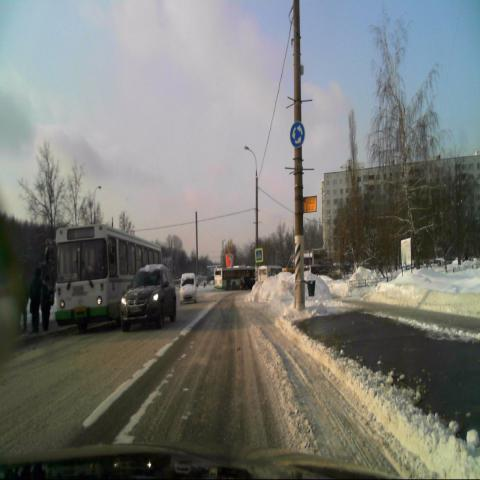4_3: (289, 120, 306, 150)
